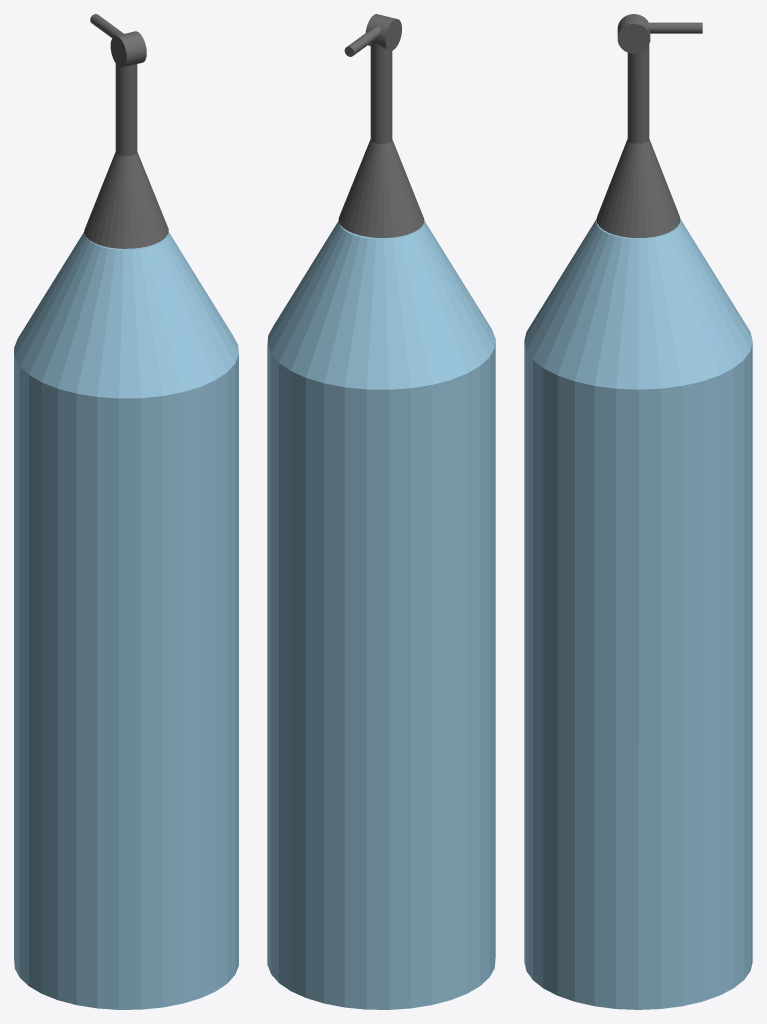
File: aircan.fbx
3 renders of one model, left to right at view 1: azimuth 30°, elevation 25°; view 2: azimuth 150°, elevation 25°; view 3: azimuth 270°, elevation 25°, orthographic.
Parts seen in each view (by area): view 1: Cylinder, Cylinder.001, Cylinder.002; view 2: Cylinder, Cylinder.001, Cylinder.002; view 3: Cylinder, Cylinder.001, Cylinder.002, Cylinder.003.
Boxes of the visible parts, <box> form: Cylinder: <box>14,232,238,1009</box>; Cylinder.001: <box>84,64,168,248</box>; Cylinder.002: <box>110,31,146,67</box>; Cylinder: <box>267,221,495,1009</box>; Cylinder.001: <box>338,43,424,237</box>; Cylinder.002: <box>365,14,401,50</box>; Cylinder: <box>524,219,752,1009</box>; Cylinder.001: <box>596,45,680,238</box>; Cylinder.002: <box>617,14,650,53</box>; Cylinder.003: <box>645,22,702,33</box>.
Bounding box in the file's own units: 37.5 × 171 × 37.5.
